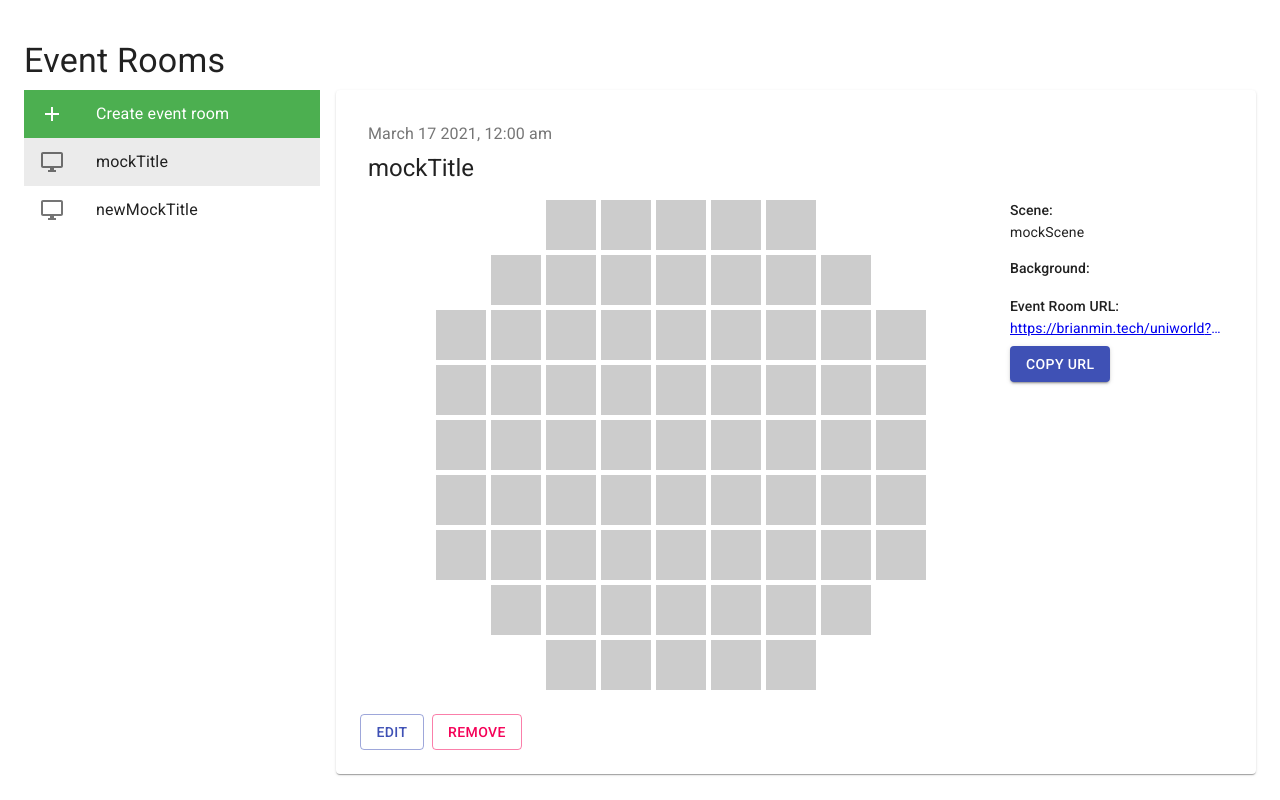
Eventrooms view test › should correctly select event room from list
The width and height of the screenshot is (1280, 800).
Expected: the heading with id "currentEventRoomTitle" reads "mockTitle", [368,154,474,182]
Step 1. Click the button with id "listItem1" → (119, 210), box [40,198,198,222]
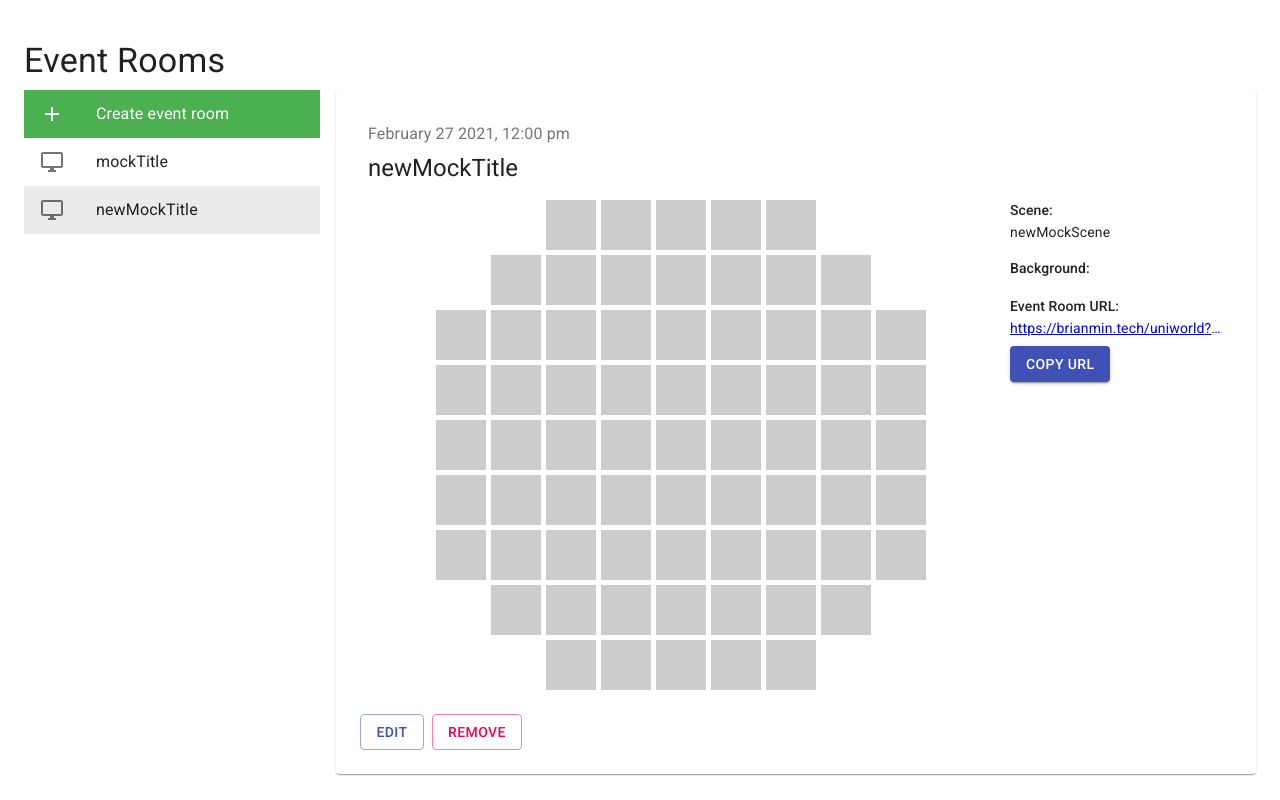
Expected: the button with id "listItem1" is selected, [24,186,320,234]
Expected: the heading with id "currentEventRoomTitle" reads "newMockTitle", [368,154,518,182]
